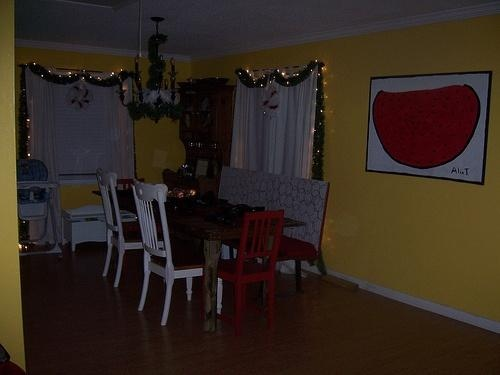chair: (129, 178, 206, 328), (217, 209, 286, 337), (97, 167, 146, 290), (17, 158, 63, 259)
diningtable: (92, 185, 309, 333)
